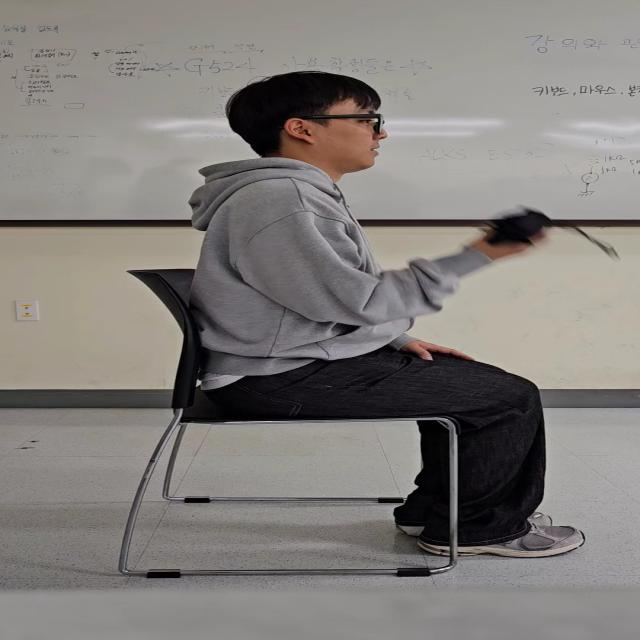curl: (261, 182, 538, 332)
